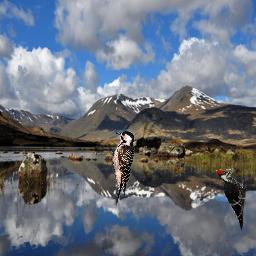Woodpecker: (216, 167, 247, 234), (110, 129, 135, 207)
